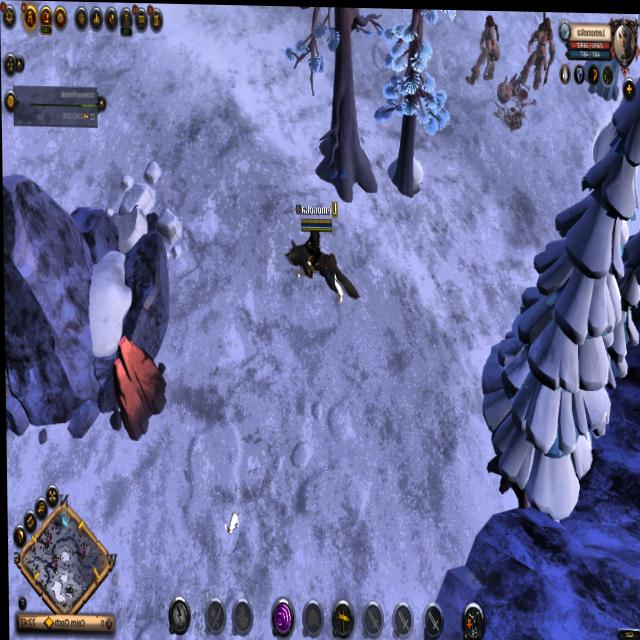rock tier 5: (111, 340, 167, 433)
